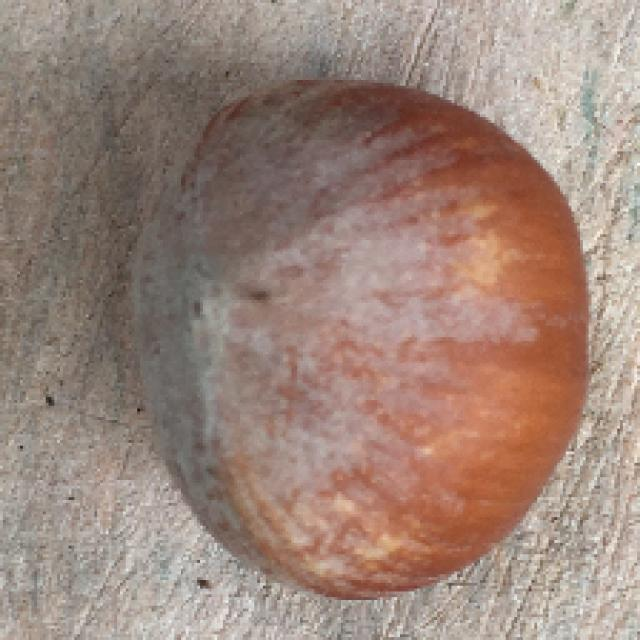QualityHazelnut: (127, 76, 594, 599)
